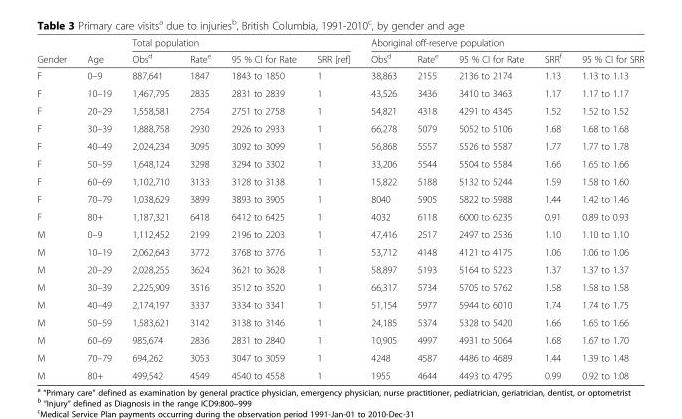table: (36, 36, 643, 380)
table column: (220, 36, 306, 380), (447, 36, 533, 380), (570, 36, 643, 380), (121, 36, 178, 380), (306, 36, 360, 380), (360, 36, 406, 380), (76, 36, 121, 380), (178, 36, 220, 380), (406, 36, 447, 380), (36, 36, 76, 380), (533, 36, 570, 380)
table column header: (36, 36, 643, 66)
table row: (36, 66, 643, 84), (36, 101, 643, 119), (36, 136, 643, 154), (36, 154, 643, 172), (36, 189, 643, 207), (36, 207, 643, 225), (36, 242, 643, 260), (36, 260, 643, 278), (36, 295, 643, 313), (36, 330, 643, 348), (36, 348, 643, 366), (36, 49, 643, 66), (36, 84, 643, 101), (36, 119, 643, 136), (36, 172, 643, 189), (36, 225, 643, 242), (36, 278, 643, 295), (36, 313, 643, 330), (36, 366, 643, 380), (36, 36, 643, 49)
table spanning cell: (360, 36, 643, 49), (121, 36, 360, 49), (76, 36, 121, 66), (36, 36, 76, 66)
